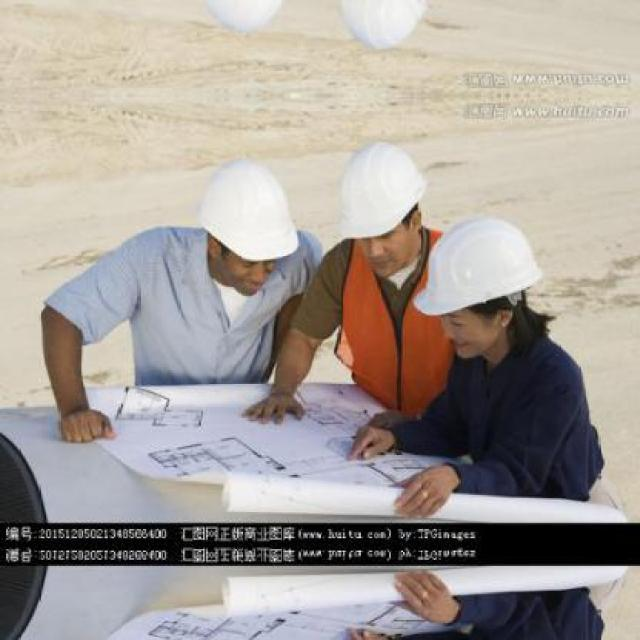helmet: (418, 212, 544, 357), (186, 159, 300, 296), (322, 139, 432, 276), (321, 0, 432, 52), (186, 0, 301, 32)
